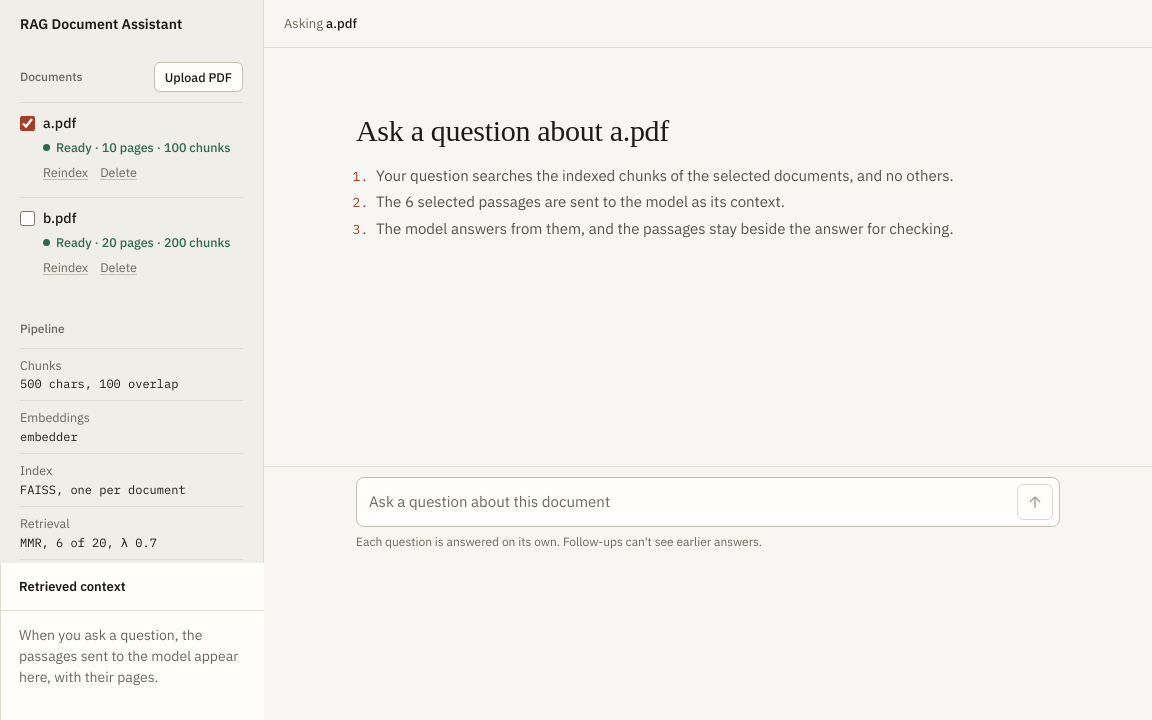
Test: source rendering › keeps the shorter passage button when sources come from one document
This screenshot has width=1152, height=720.
Click the checkbox labelled "b.pdf": (28, 218) x1=20 y1=211 x2=35 y2=226
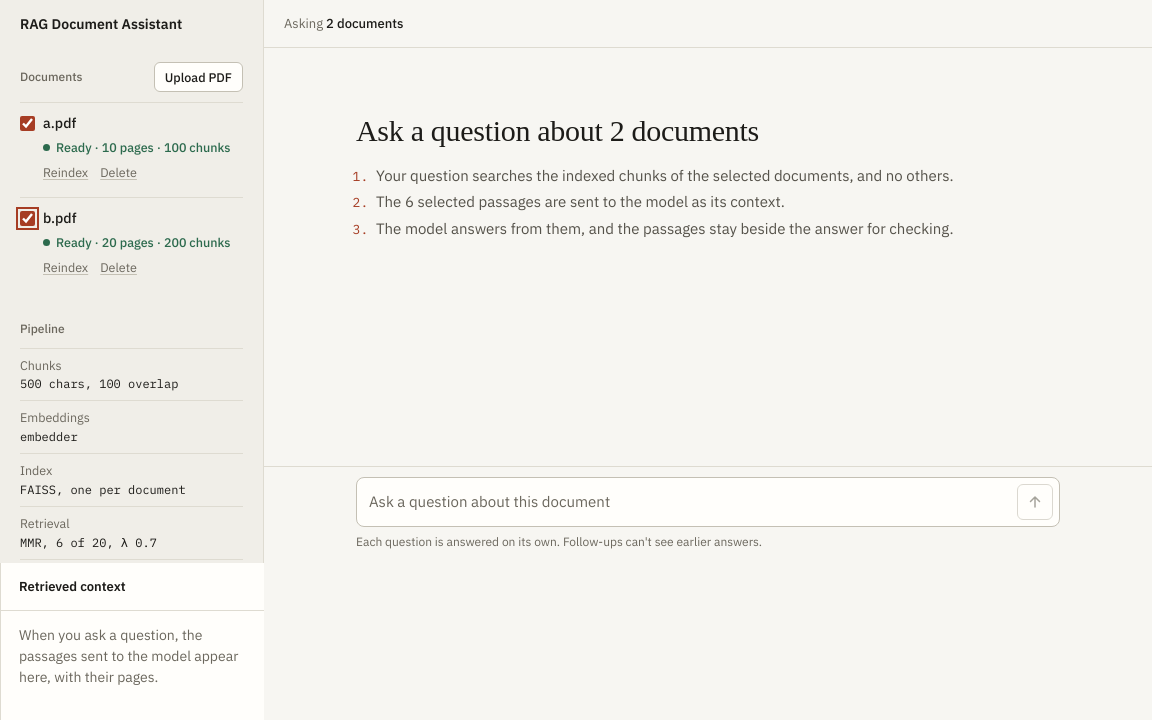
In the text box named "Question about the document": (689, 502) x1=369 y1=484 x2=1009 y2=520, type "What?"
Then press Enter
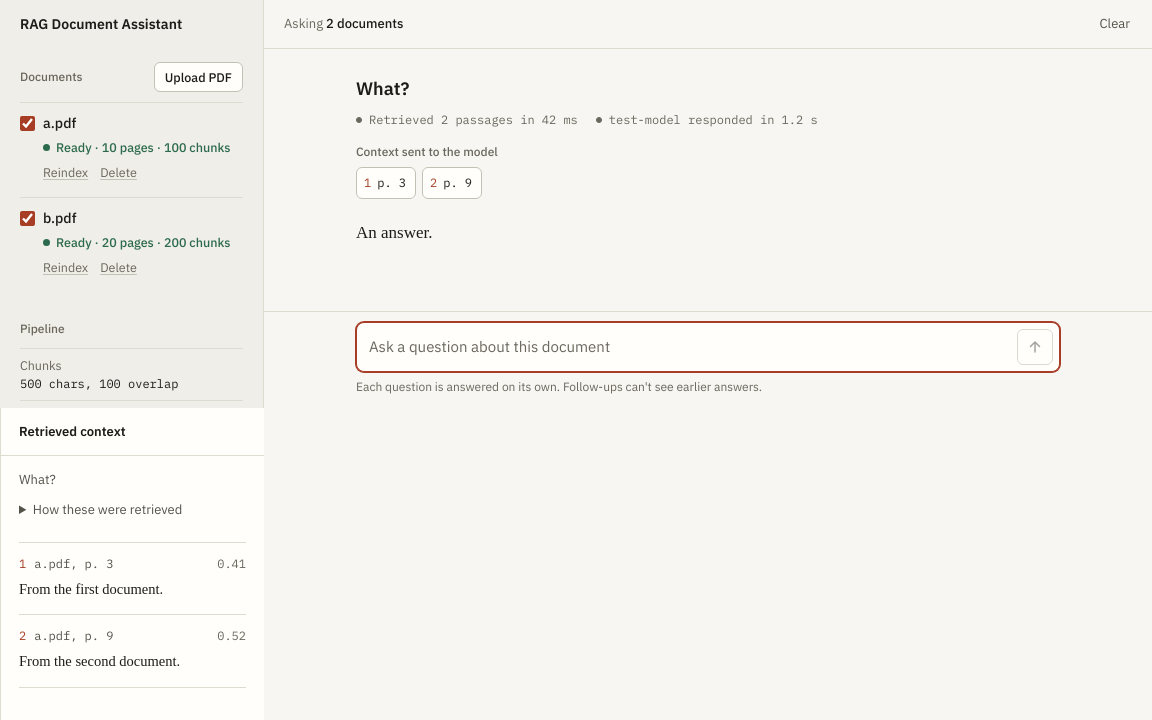
Check: the text "An answer." is shown, box x1=356 y1=223 x2=432 y2=242
Check: the button named "Inspect passage 2, page 9" is shown, box x1=422 y1=167 x2=482 y2=199
